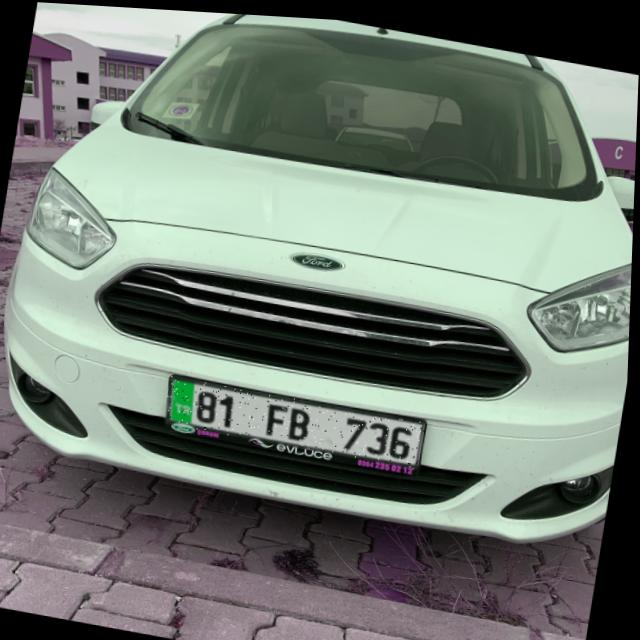license_plate: (165, 373, 429, 464)
